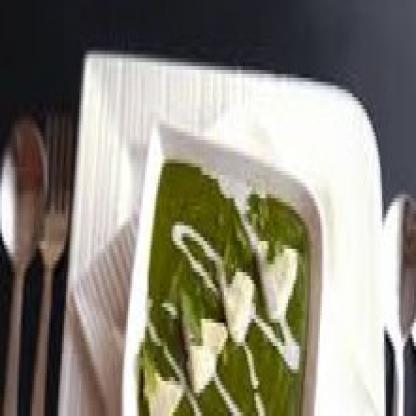palak_paneer: (139, 160, 310, 416)
